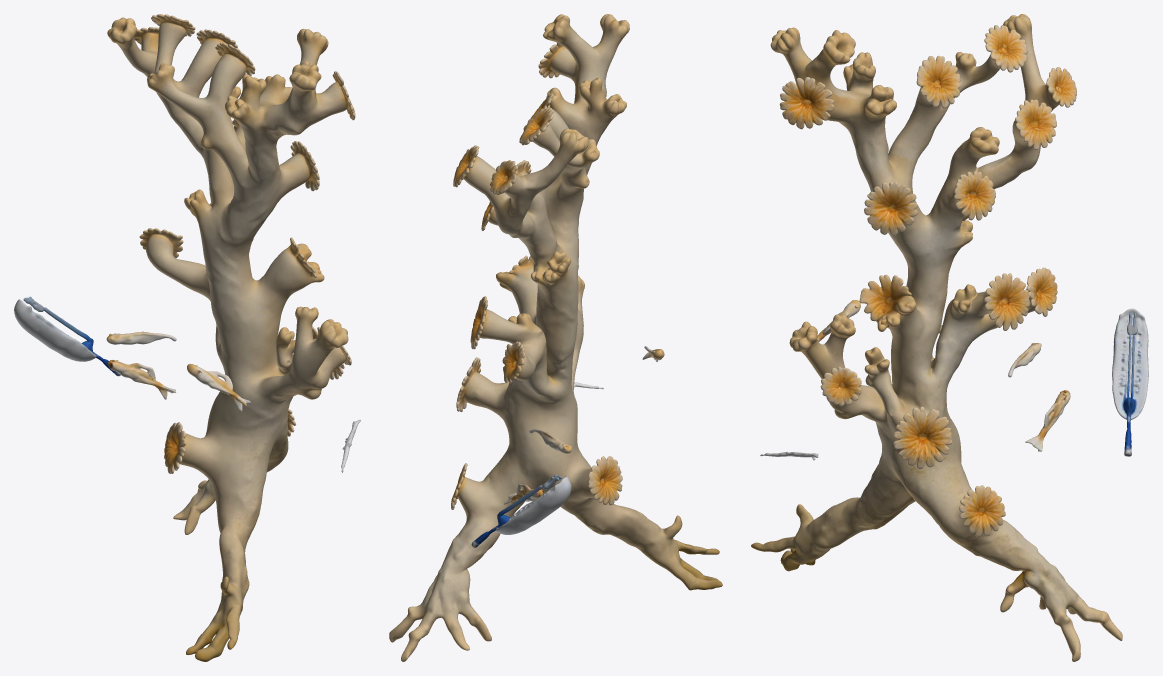
3 renders of one model, left to right at view 1: azimuth 30°, elevation 25°; view 2: azimuth 150°, elevation 25°; view 3: azimuth 270°, elevation 25°, orthographic. The views are drawn at different scales.
Bounding box in the file's own units: 0.3874 × 0.9998 × 0.6021.
Materials: 1 (1 with a texture image).
